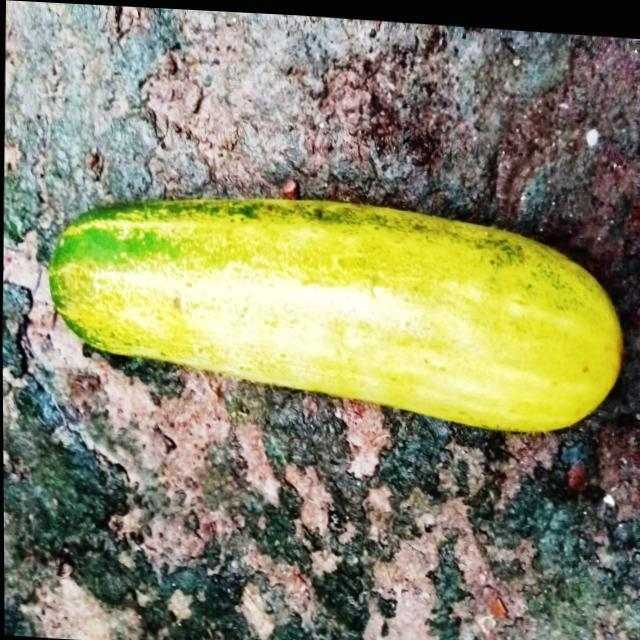Fresh-Cucumber: (43, 177, 625, 437)
